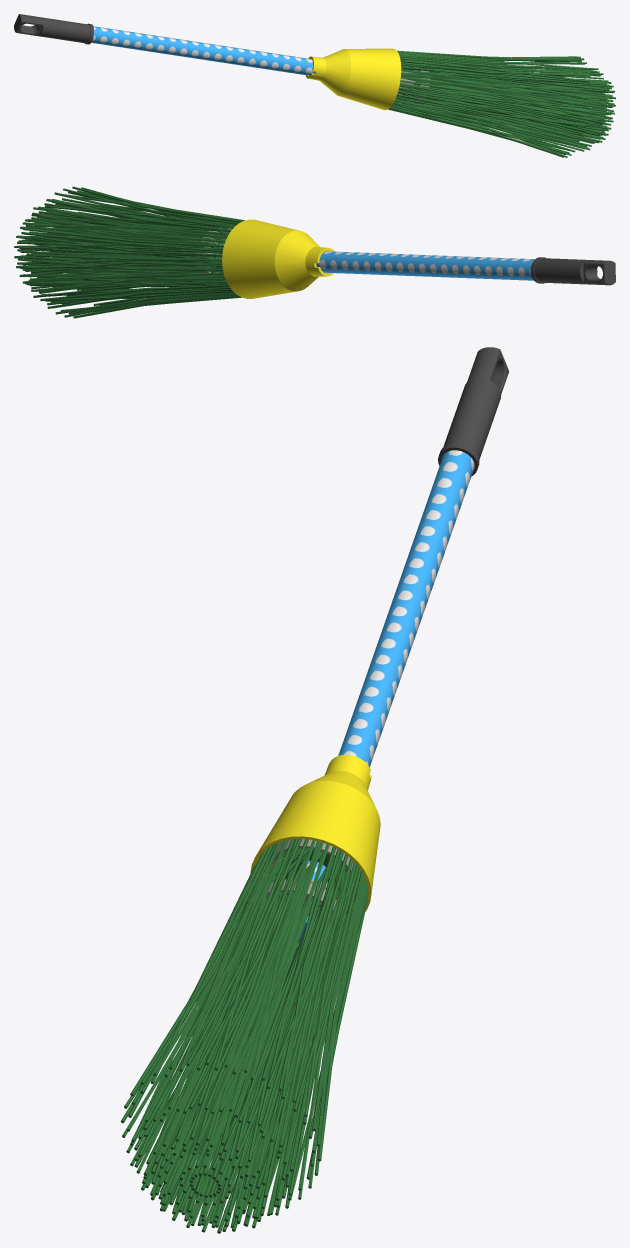
File: broom.obj
3 views of the same model, one above another, from view 1: azimuth 30°, elevation 25°; view 2: azimuth 150°, elevation 25°; view 3: azimuth 270°, elevation 25° (orthographic). The views are drawn at different scales.
Parts seen in each view (by area): view 1: fiber1, fiber2, cap, handle, fiber3, handke_cap, fiber4; view 2: fiber1, fiber2, cap, handle, fiber3, handke_cap, fiber4; view 3: fiber1, fiber2, fiber3, handle, cap, fiber4, handke_cap.
Boxes of the visible parts, x1=… form: fiber1: x1=388, y1=50, x2=591, y2=157; fiber2: x1=394, y1=57, x2=607, y2=151; cap: x1=305, y1=48, x2=401, y2=110; handle: x1=91, y1=26, x2=314, y2=75; fiber3: x1=402, y1=63, x2=615, y2=143; handke_cap: x1=14, y1=14, x2=93, y2=44; fiber4: x1=409, y1=69, x2=611, y2=131; fiber1: x1=26, y1=186, x2=244, y2=318; fiber2: x1=17, y1=198, x2=235, y2=305; cap: x1=222, y1=219, x2=334, y2=298; handle: x1=316, y1=251, x2=534, y2=280; fiber3: x1=14, y1=211, x2=225, y2=291; handke_cap: x1=530, y1=257, x2=615, y2=285; fiber4: x1=24, y1=227, x2=226, y2=277; fiber1: x1=121, y1=838, x2=368, y2=1218; fiber2: x1=130, y1=848, x2=352, y2=1231; fiber3: x1=143, y1=882, x2=333, y2=1233; handle: x1=298, y1=450, x2=474, y2=941; cap: x1=250, y1=754, x2=380, y2=911; fiber4: x1=163, y1=901, x2=305, y2=1218; handke_cap: x1=438, y1=347, x2=509, y2=476.
Bounding box in the file's own units: 887 × 330 × 283.
